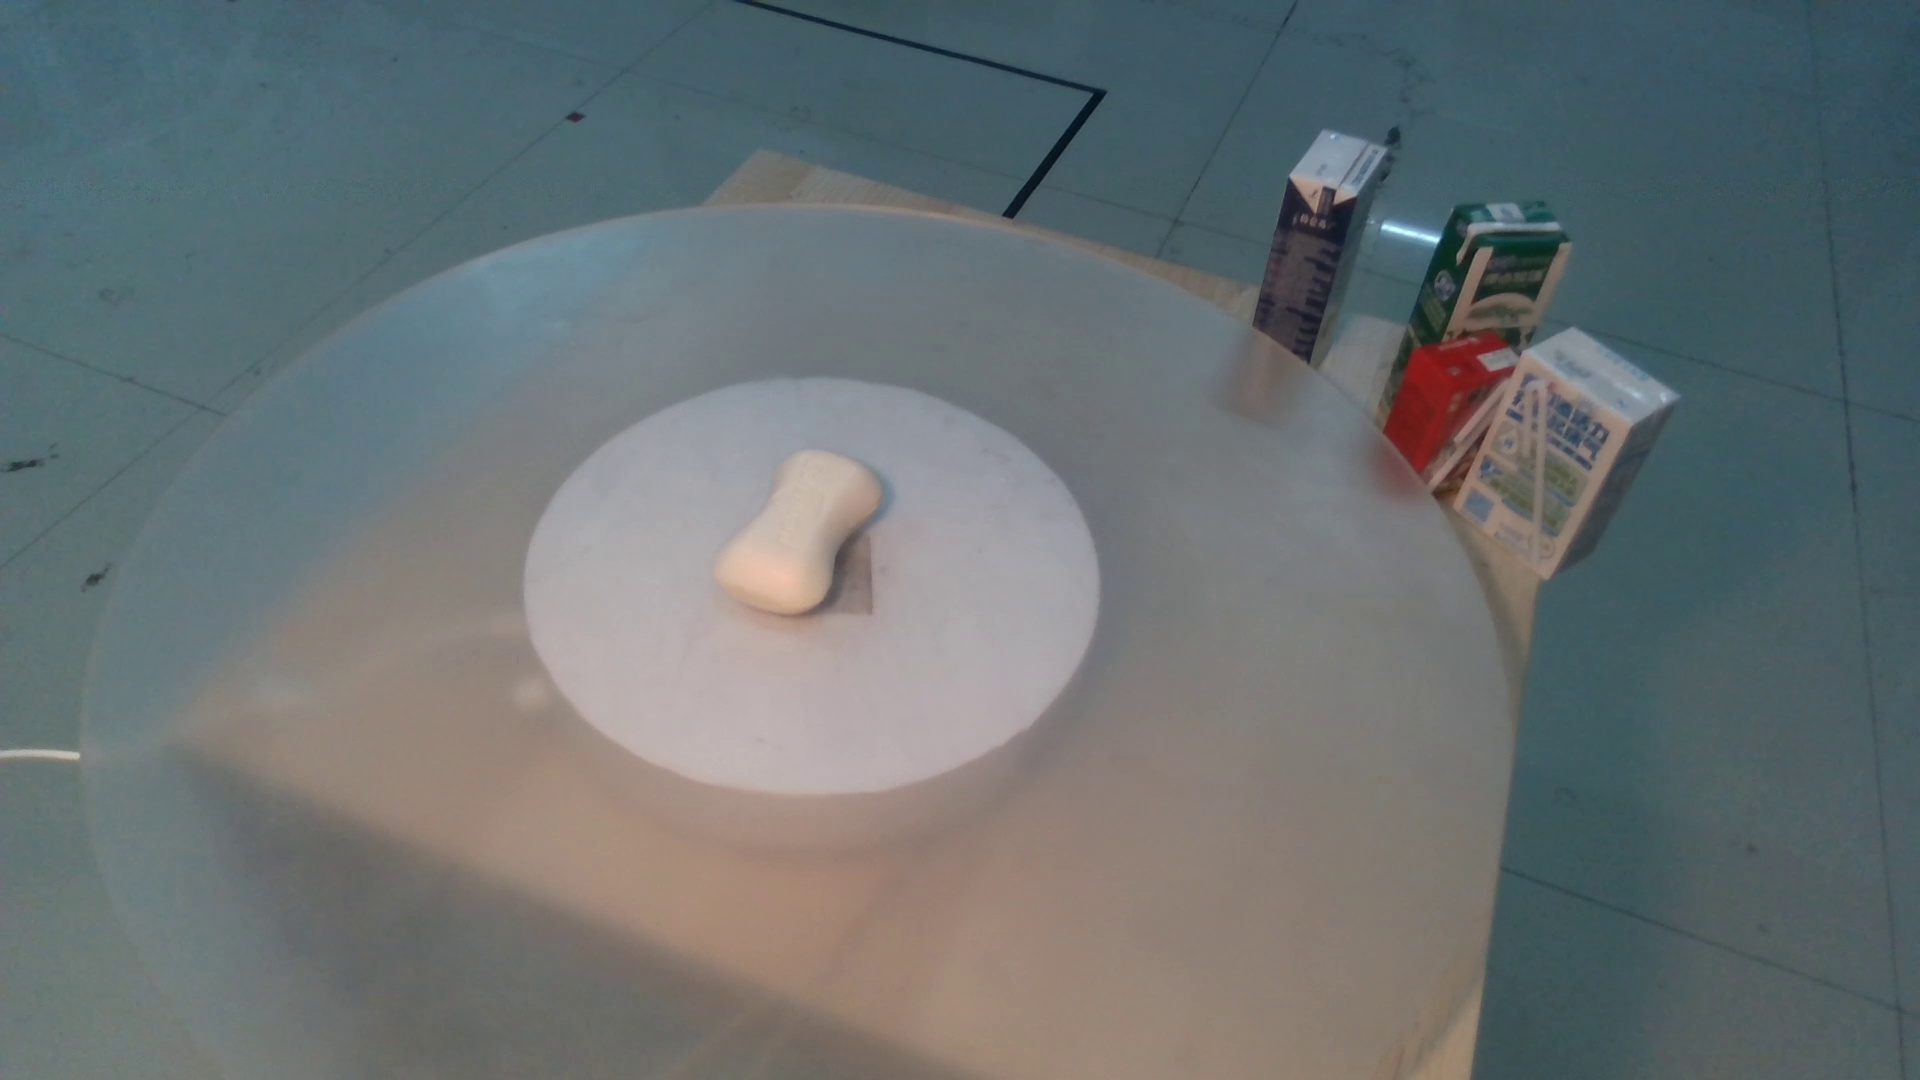CA003_1: (684, 439, 935, 636)
